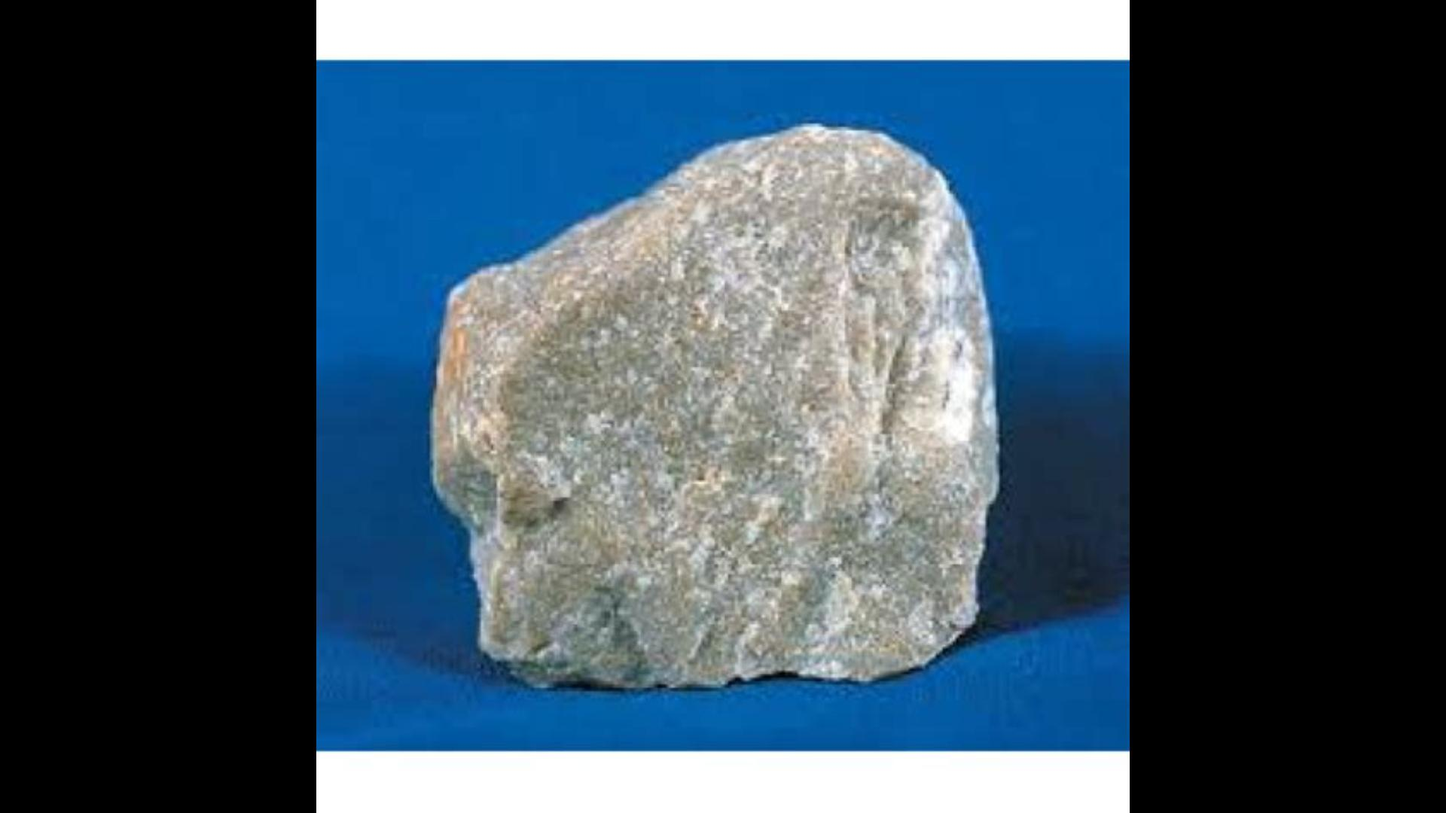rock: (433, 125, 996, 684)
